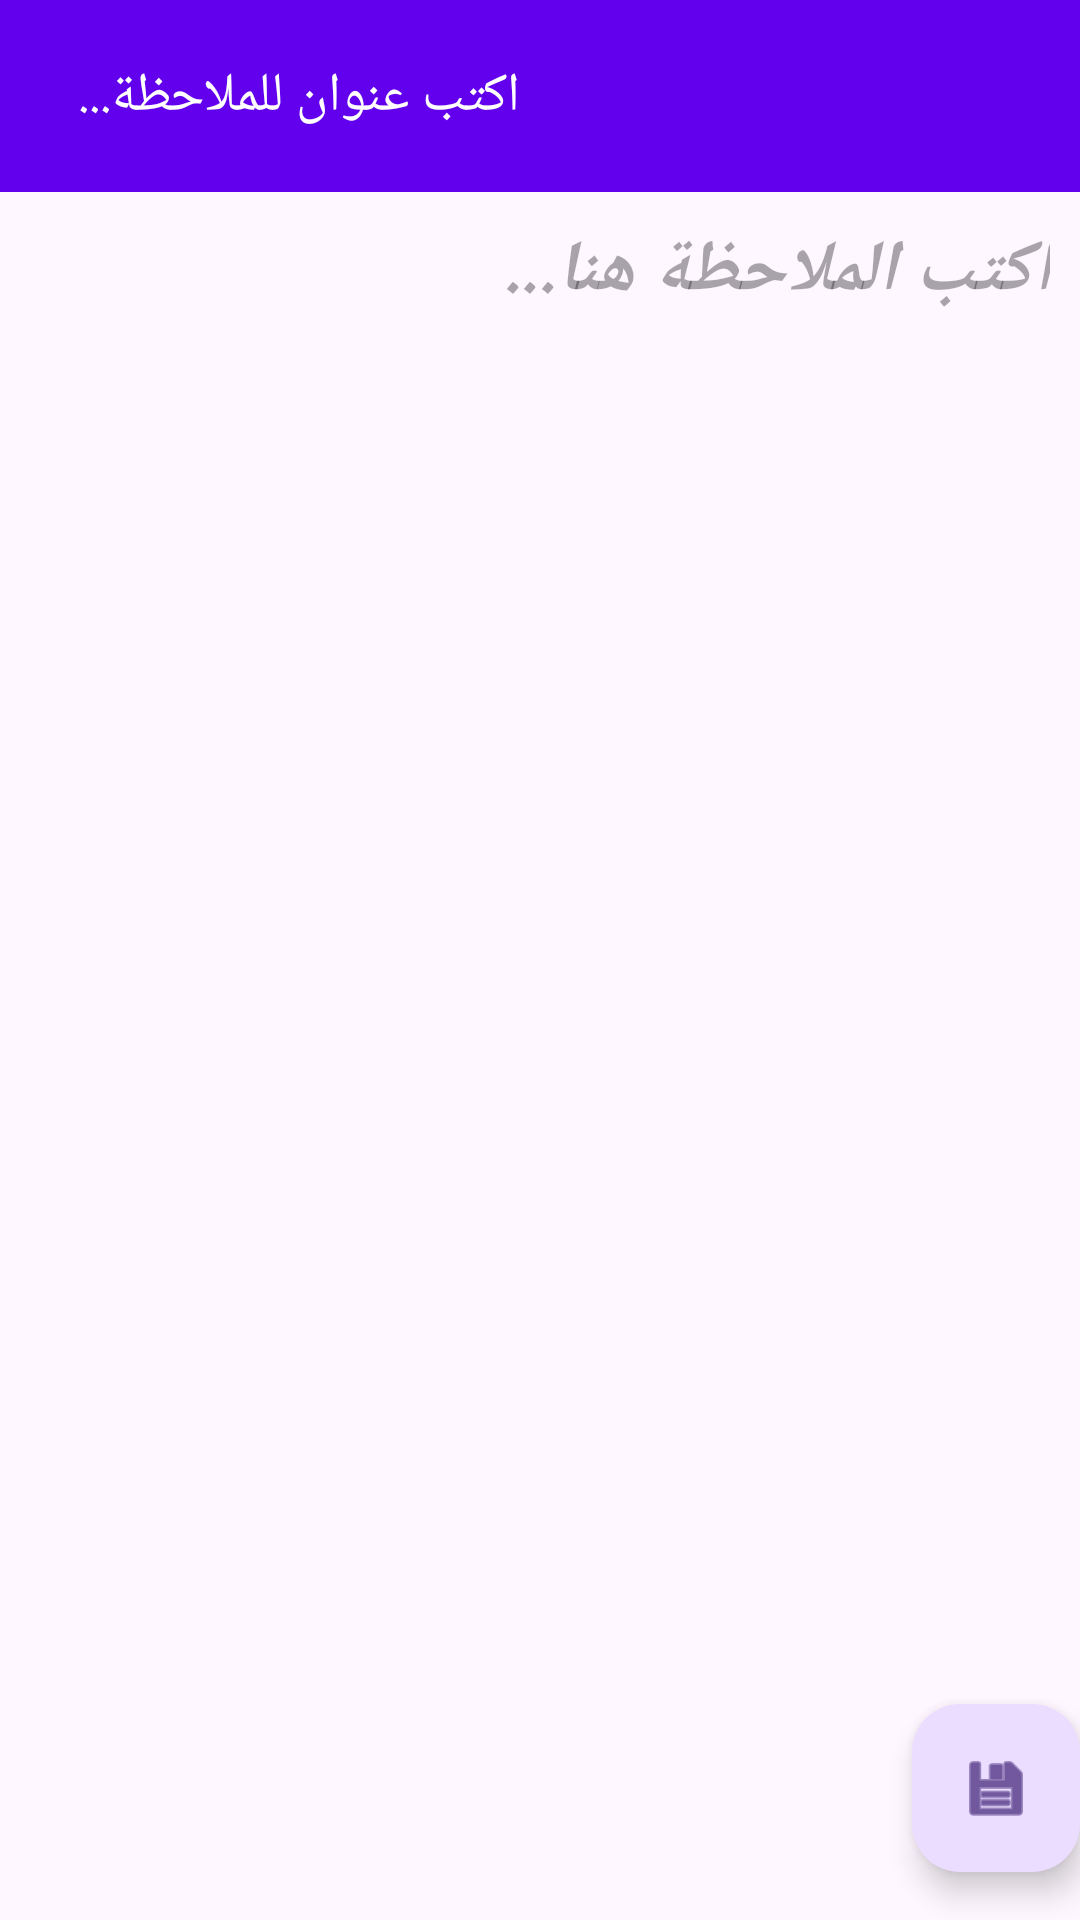

Point at icon controls on the screen. Image size 1080x1920, points as point (x, y).
save: point (996, 1788)
